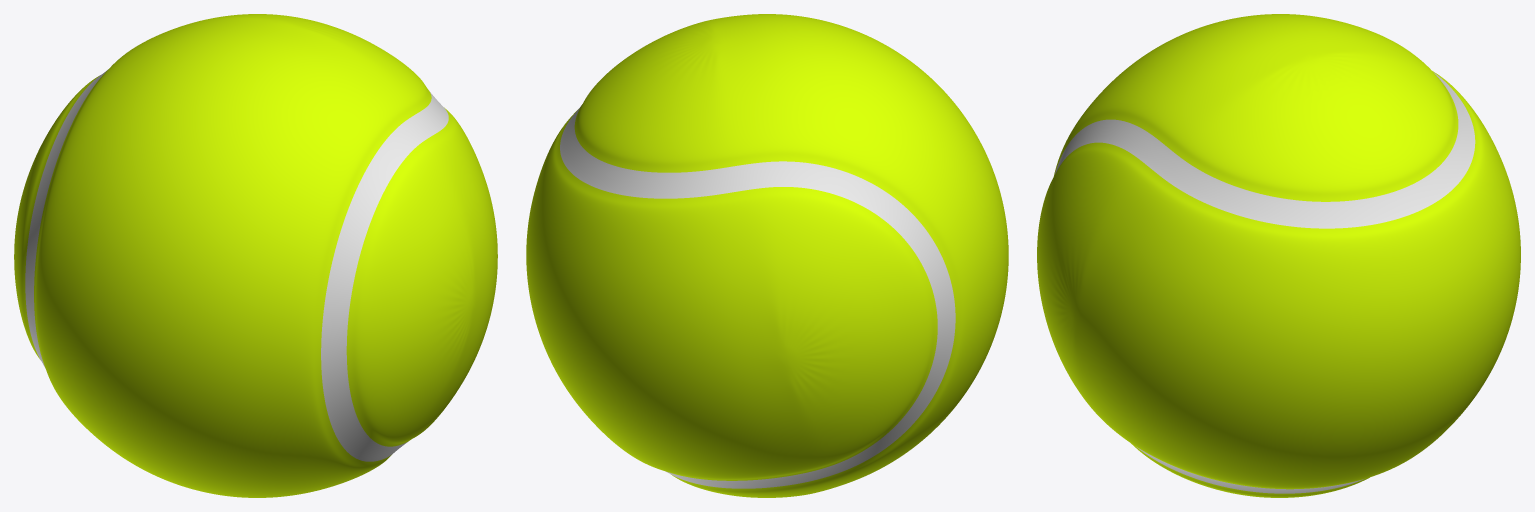
File: BouncyBall.fbx
3 views of the same model, side by side, from view 1: azimuth 30°, elevation 25°; view 2: azimuth 150°, elevation 25°; view 3: azimuth 270°, elevation 25° (orthographic).
Parts seen in each view (by area): view 1: Sphere; view 2: Sphere; view 3: Sphere.
Boxes of the visible parts, x1,y1,x2,y2 form: Sphere: (14, 14, 497, 497); Sphere: (526, 14, 1008, 497); Sphere: (1037, 14, 1520, 497).
Bounding box in the file's own units: 141 × 141 × 141.
